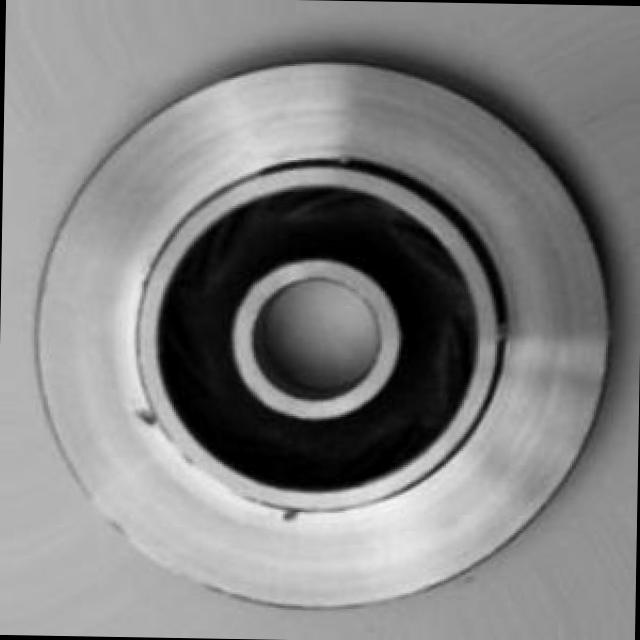Defect: (128, 401, 172, 432)
